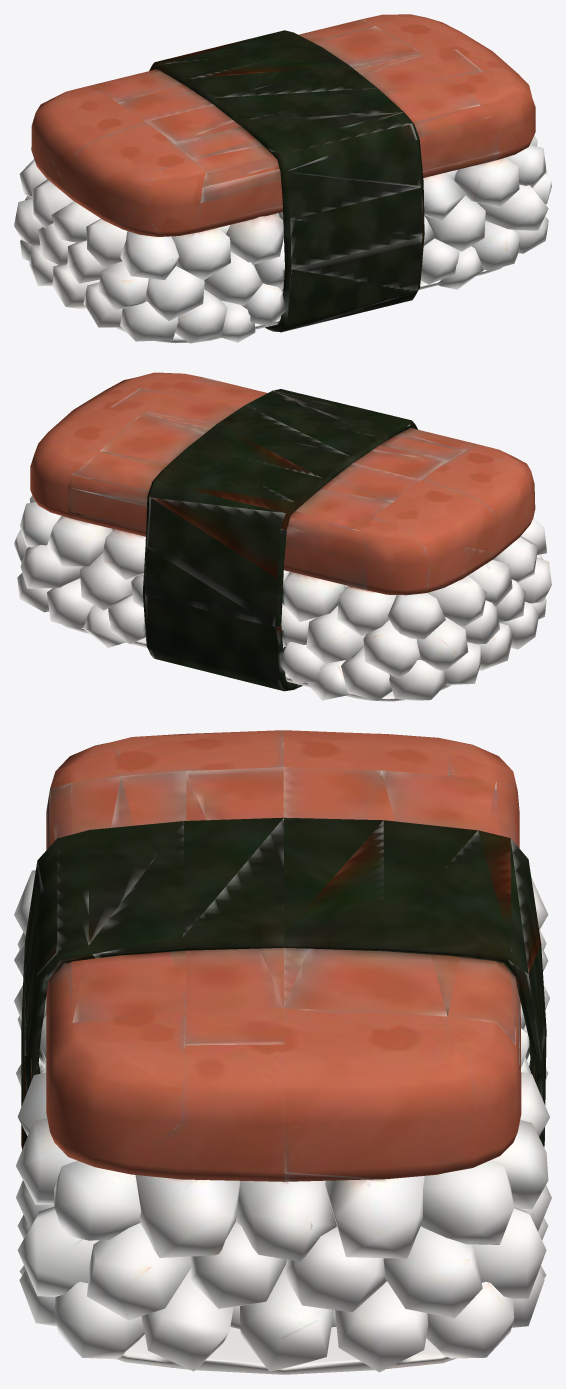
The model's file is brand_musubi.glb.
3 views of the same model, one above another, from view 1: azimuth 30°, elevation 25°; view 2: azimuth 150°, elevation 25°; view 3: azimuth 270°, elevation 25° (orthographic). The views are drawn at different scales.
Size of the model in its own units: 1 by 0.4355 by 0.584.
1 material, 1 textured.
